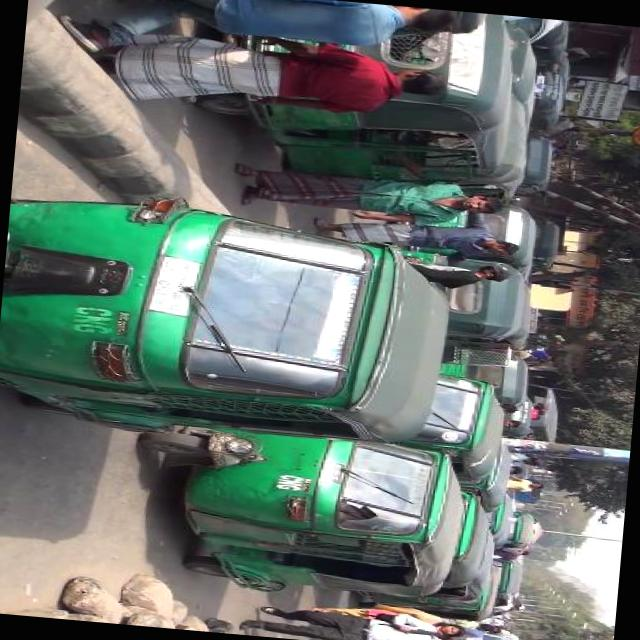bus: (507, 474, 549, 509)
car: (457, 630, 507, 640)
motorcycle: (0, 186, 454, 453), (193, 0, 514, 195), (128, 423, 462, 599), (329, 83, 532, 209), (382, 250, 538, 350), (374, 190, 541, 270), (398, 368, 510, 480), (353, 550, 506, 623), (425, 482, 500, 595), (476, 18, 539, 134), (436, 347, 538, 407), (459, 440, 523, 512), (519, 63, 574, 132), (470, 491, 522, 552), (515, 131, 558, 196), (520, 212, 566, 270), (498, 506, 541, 552), (502, 394, 540, 444), (532, 18, 573, 62), (487, 556, 524, 598), (541, 54, 575, 86)
truck: (512, 378, 566, 448)
